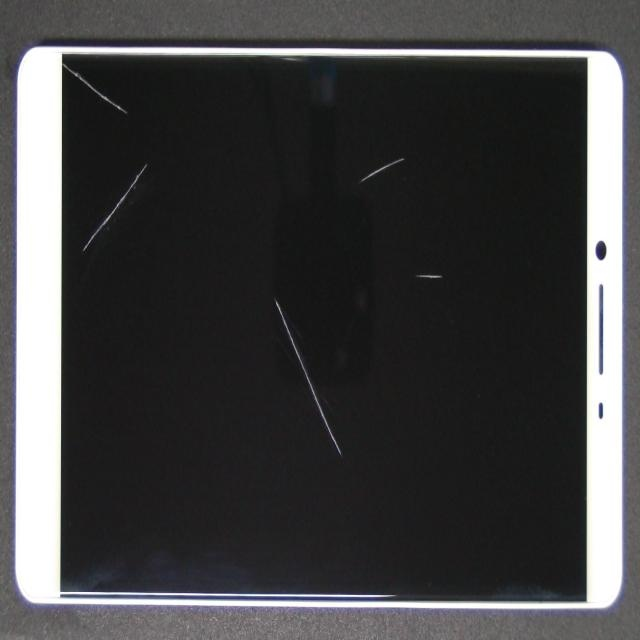scratch: (262, 160, 640, 405), (248, 45, 596, 251), (218, 328, 484, 589), (108, 23, 183, 270), (105, 81, 162, 128)
